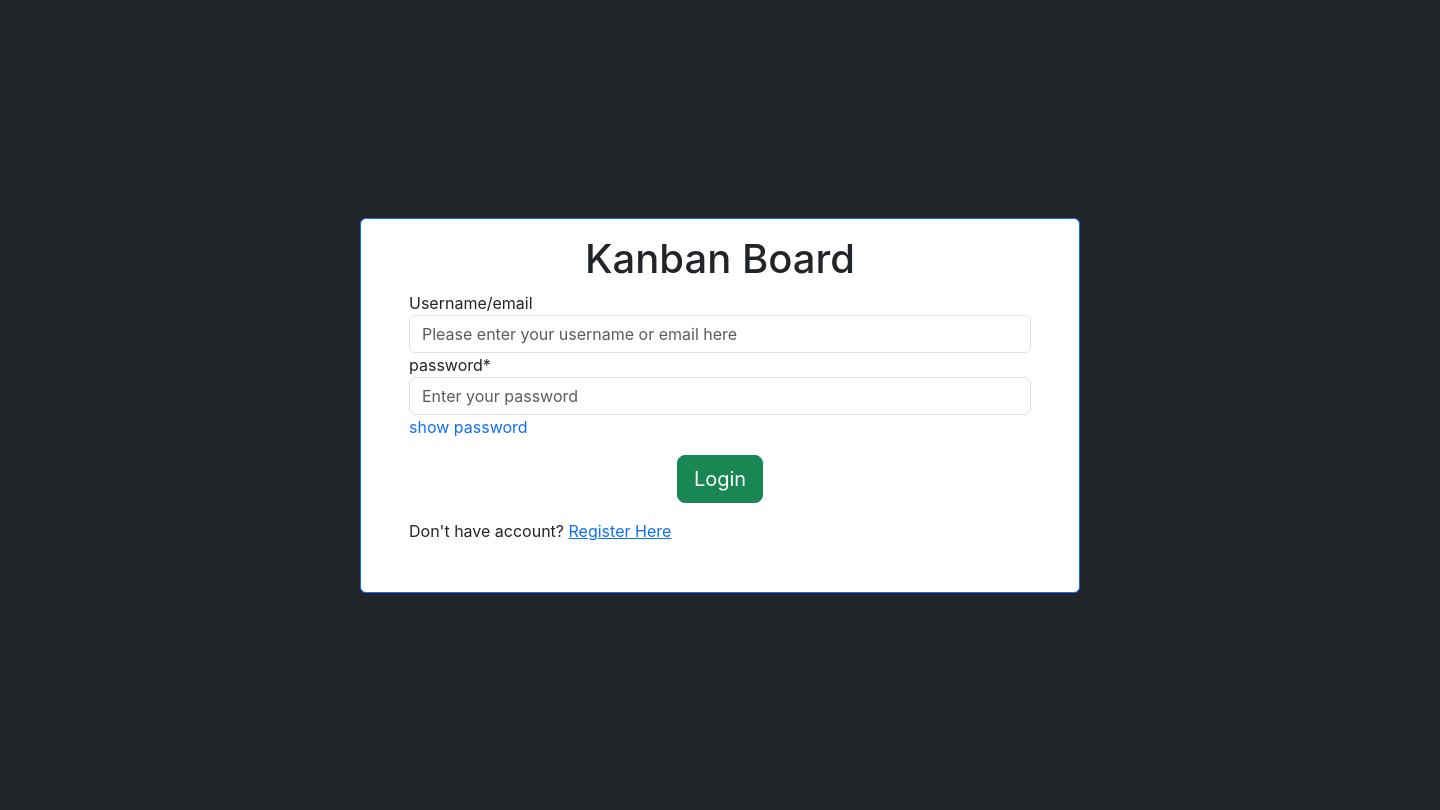
Scenario: renders home componenet correctly › entering password length less than 8 charcters should show error
Type "Shiva" into the password field with placeholder "Enter your password" at (720, 396), box [409, 376, 1031, 414]
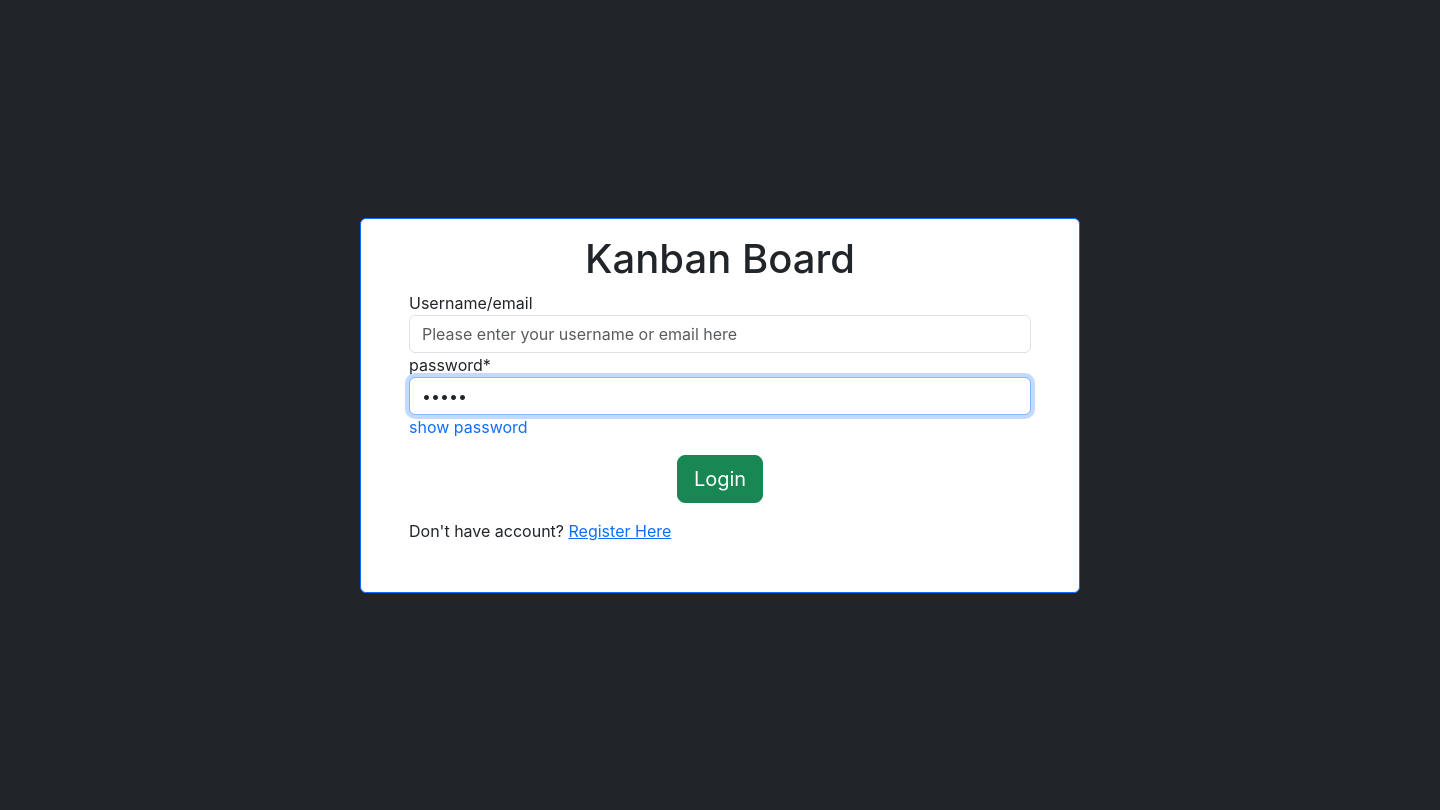
Click the element that starts with "Kanban Board" at (720, 405), box [0, 0, 1439, 809]
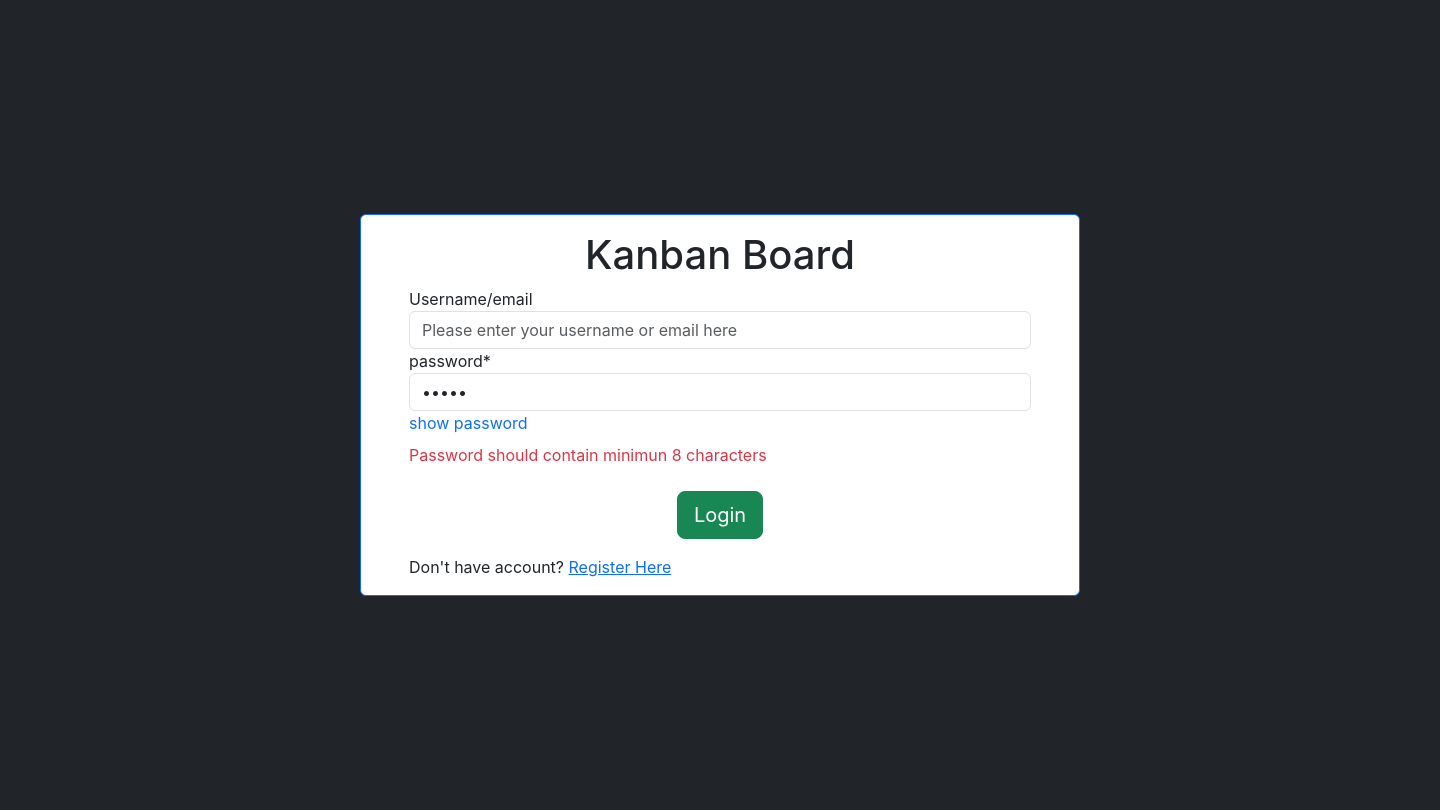
Expected: the text "Password should contain minimun 8 characters" is shown, [409, 445, 767, 465]
